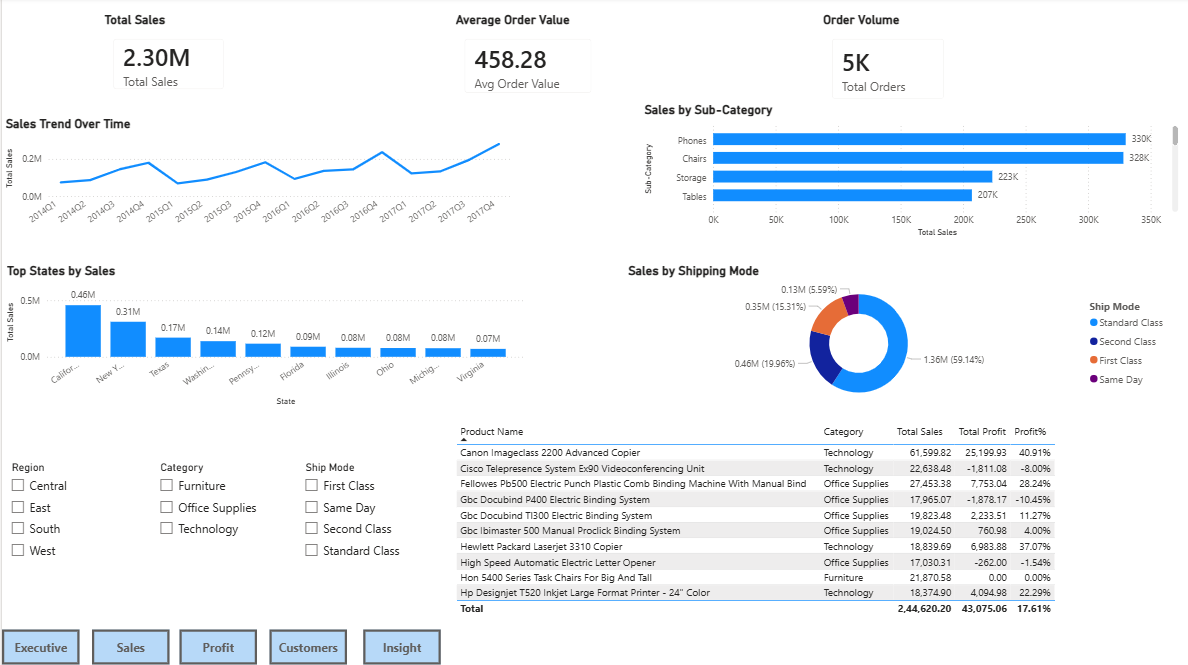

This screenshot's page, from the dashboard's own definition file:
{"tool":"powerbi","page":{"name":"Sales Analysis","canvas":[1600,900],"ordinal":1},"visuals":[{"type":"cardVisual","title":"Total Sales","fields":{"Data":["Orders.Total Sales"]},"box":[133.1,20.2,183.6,121.3],"z":0},{"type":"cardVisual","title":"Average Order Value","fields":{"Data":["Orders.Avg Order Value"]},"box":[606.4,20.2,205.5,126.3],"z":1000},{"type":"cardVisual","title":"Order Volume","fields":{"Data":["Orders.Total Orders"]},"box":[1101.7,20.2,185.3,134.8],"z":2000},{"type":"lineChart","title":"Sales Trend Over Time","fields":{"Y":["Orders.Total Sales"],"Category":["Orders.Year-Quarter"]},"box":[0,160,690.7,161.7],"z":3000},{"type":"clusteredBarChart","title":" Sales by Sub-Category","fields":{"Y":["Orders.Total Sales"],"Category":["Orders.Sub-Category"]},"box":[860.8,141.5,729.4,187],"z":4000},{"type":"clusteredColumnChart","title":"Top States by Sales","fields":{"Category":["Orders.State"],"Y":["Orders.Total Sales"]},"box":[1.7,358.8,707.5,197.1],"z":5000},{"type":"donutChart","title":"Sales by Shipping Mode","fields":{"Category":["Orders.Ship Mode"],"Y":["Orders.Total Sales"]},"box":[838.9,358.8,739.5,197.1],"z":6000},{"type":"slicer","fields":{"Values":["Orders.Category"]},"box":[199.6,619.9,178.6,155],"z":7000},{"type":"slicer","fields":{"Values":["Orders.Region"]},"box":[0,619.9,181.9,153.3],"z":8000},{"type":"slicer","fields":{"Values":["Orders.Ship Mode"]},"box":[395.9,619.9,181.9,155],"z":9000},{"type":"actionButton","box":[0,852.4,104.4,47.2],"z":10000},{"type":"actionButton","box":[121.3,852.4,104.4,47.2],"z":11000},{"type":"actionButton","box":[239.2,852.4,104.4,47.2],"z":12000},{"type":"actionButton","box":[360.5,852.4,104.4,47.2],"z":13000},{"type":"actionButton","box":[486.8,852.4,104.4,47.2],"z":14000},{"type":"tableEx","fields":{"Values":["Orders.Product Name","Orders.Category","Sum(Orders.Sales)","Sum(Orders.Profit)","Orders.Profit%"]},"box":[606.4,569.4,892.8,283],"z":15000}]}

Visuals, with their boxes in screenshot pixels (x1, y1, x2, y2), scaled from the page's 1600x900 canvas onto the 1188x665 screenshot:
"Total Sales" cardVisual: (x1=99, y1=15, x2=235, y2=105)
"Average Order Value" cardVisual: (x1=450, y1=15, x2=603, y2=108)
"Order Volume" cardVisual: (x1=818, y1=15, x2=956, y2=115)
"Sales Trend Over Time" lineChart: (x1=0, y1=118, x2=513, y2=238)
" Sales by Sub-Category" clusteredBarChart: (x1=639, y1=105, x2=1181, y2=243)
"Top States by Sales" clusteredColumnChart: (x1=1, y1=265, x2=527, y2=411)
"Sales by Shipping Mode" donutChart: (x1=623, y1=265, x2=1172, y2=411)
slicer - Orders.Category: (x1=148, y1=458, x2=281, y2=573)
slicer - Orders.Region: (x1=0, y1=458, x2=135, y2=571)
slicer - Orders.Ship Mode: (x1=294, y1=458, x2=429, y2=573)
actionButton: (x1=0, y1=630, x2=78, y2=664)
actionButton: (x1=90, y1=630, x2=168, y2=664)
actionButton: (x1=178, y1=630, x2=255, y2=664)
actionButton: (x1=268, y1=630, x2=345, y2=664)
actionButton: (x1=361, y1=630, x2=439, y2=664)
tableEx - Orders.Product Name x Orders.Category: (x1=450, y1=421, x2=1113, y2=630)
